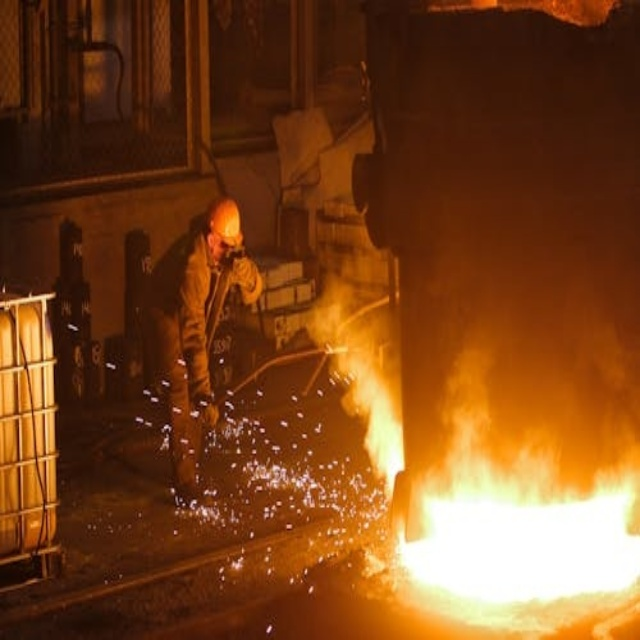Guantes: (183, 354, 219, 438), (224, 250, 264, 313)
